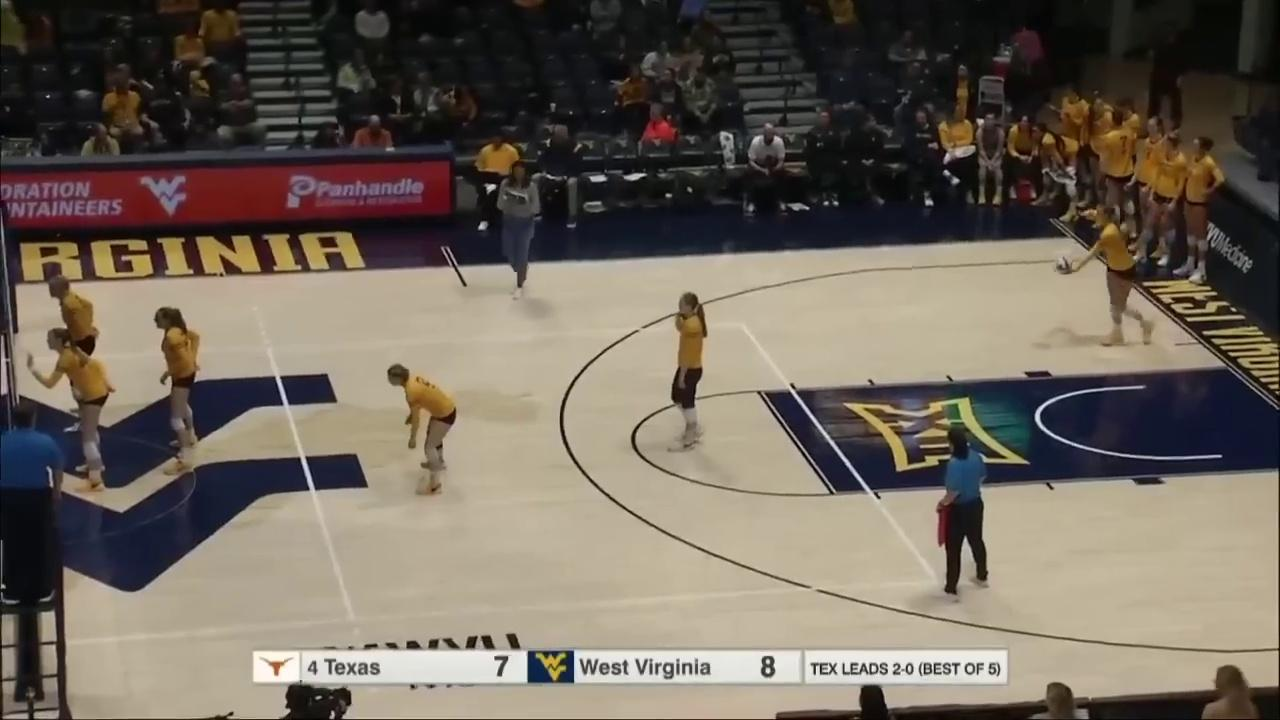player: (28, 328, 112, 493), (1063, 204, 1155, 347), (387, 364, 459, 496), (46, 277, 97, 430), (155, 307, 202, 473), (673, 291, 708, 449)
refree: (1, 407, 63, 608), (937, 428, 987, 600)
